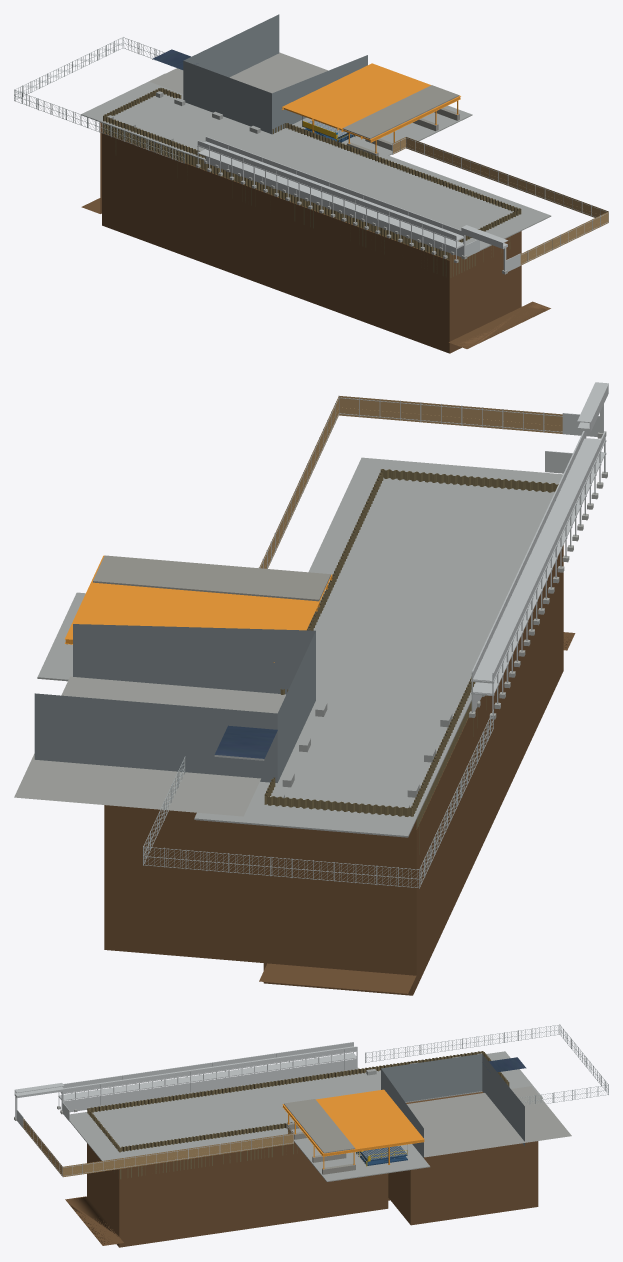
The model's file is sequence_foundation_option2.glb.
3 views of the same model, one above another, from view 1: azimuth 30°, elevation 25°; view 2: azimuth 150°, elevation 25°; view 3: azimuth 270°, elevation 25° (orthographic). The views are drawn at different scales.
Parts seen in each view (by area): view 1: foundation_option2_g0_ground, foundation_option2_g7_ground, foundation_option2_g0_site_extras, foundation_option2_g0_temporary.003, foundation_option2_g2_foundation, foundation_option2_g0_temporary.001, foundation_option2_g0_temporary.006, foundation_option2_g0_temporary.004, foundation_option2_g0_temporary.002, foundation_option2_g0_interior, foundation_option2_g0_temporary.007, foundation_option2_g0_temporary.005 (+1 smaller); view 2: foundation_option2_g0_ground, foundation_option2_g7_ground, foundation_option2_g0_site_extras, foundation_option2_g0_interior, foundation_option2_g0_temporary.003, foundation_option2_g0_temporary.001, foundation_option2_g0_temporary.002, foundation_option2_g0_temporary.006, foundation_option2_g2_foundation, foundation_option2_g0_temporary.004, foundation_option2_g0_temporary.007, foundation_option2_g0_site_extras.001 (+2 smaller); view 3: foundation_option2_g0_ground, foundation_option2_g7_ground, foundation_option2_g0_temporary.003, foundation_option2_g0_interior, foundation_option2_g0_site_extras, foundation_option2_g0_temporary.001, foundation_option2_g2_foundation, foundation_option2_g0_temporary.004, foundation_option2_g0_temporary.006, foundation_option2_g0_temporary.002, foundation_option2_g0_temporary.007, foundation_option2_g0_temporary (+3 smaller).
Boxes of the visible parts, x1,y1,x2,y2 form: foundation_option2_g0_ground: (81,122,550,353); foundation_option2_g7_ground: (81,73,551,256); foundation_option2_g0_site_extras: (183,14,367,134); foundation_option2_g0_temporary.003: (198,138,520,271); foundation_option2_g2_foundation: (103,88,521,277); foundation_option2_g0_temporary.001: (282,63,460,139); foundation_option2_g0_temporary.006: (393,137,608,265); foundation_option2_g0_temporary.004: (197,136,608,270); foundation_option2_g0_temporary.002: (342,85,459,155); foundation_option2_g0_interior: (149,52,328,93); foundation_option2_g0_temporary.007: (14,37,184,163); foundation_option2_g0_temporary.005: (196,160,507,274); foundation_option2_g0_ground: (104,545,575,995); foundation_option2_g7_ground: (37,457,562,837); foundation_option2_g0_site_extras: (34,624,315,782); foundation_option2_g0_interior: (14,676,285,816); foundation_option2_g0_temporary.003: (471,382,608,711); foundation_option2_g0_temporary.001: (65,555,331,639); foundation_option2_g0_temporary.002: (93,555,330,627); foundation_option2_g0_temporary.006: (259,396,562,568); foundation_option2_g2_foundation: (264,469,558,854); foundation_option2_g0_temporary.004: (258,391,608,714); foundation_option2_g0_temporary.007: (143,709,493,888); foundation_option2_g0_site_extras.001: (214,725,277,758); foundation_option2_g0_ground: (65,1092,538,1247); foundation_option2_g7_ground: (69,1051,542,1181); foundation_option2_g0_temporary.003: (14,1043,356,1128); foundation_option2_g0_interior: (406,1086,571,1157); foundation_option2_g0_site_extras: (381,1054,524,1157); foundation_option2_g0_temporary.001: (282,1089,424,1154); foundation_option2_g2_foundation: (87,1051,509,1179); foundation_option2_g0_temporary.004: (14,1042,357,1176); foundation_option2_g0_temporary.006: (23,1118,293,1177); foundation_option2_g0_temporary.002: (284,1099,355,1174); foundation_option2_g0_temporary.007: (365,1024,608,1104); foundation_option2_g0_temporary: (282,1105,424,1169).
Bounding box in the file's own units: 74.45 × 31.41 × 128.
Materials: 32 (1 with a texture image).
